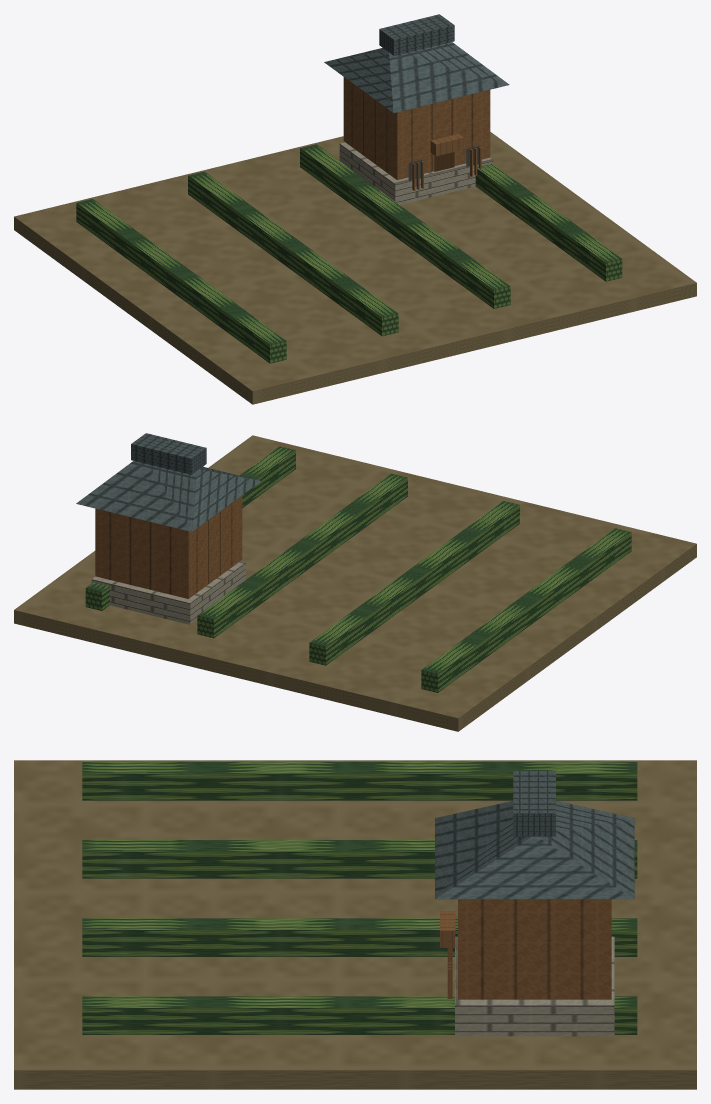
Rendered from domestic-FARM-1-lod1.glb.
3 renders of one model, top to bottom at view 1: azimuth 30°, elevation 25°; view 2: azimuth 150°, elevation 25°; view 3: azimuth 270°, elevation 25°, orthographic. The views are drawn at different scales.
Bounding box in the file's own units: 0.86 × 0.296 × 0.8.
Materials: 1 (1 with a texture image).
